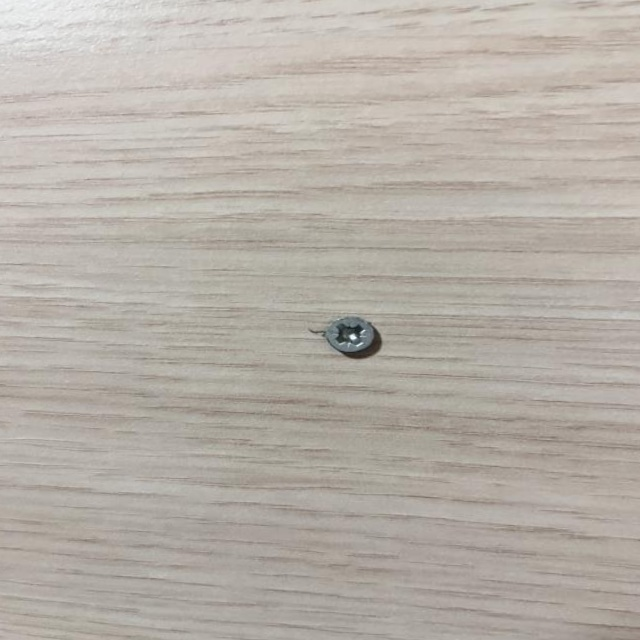pozidriv: (325, 317, 377, 354)
